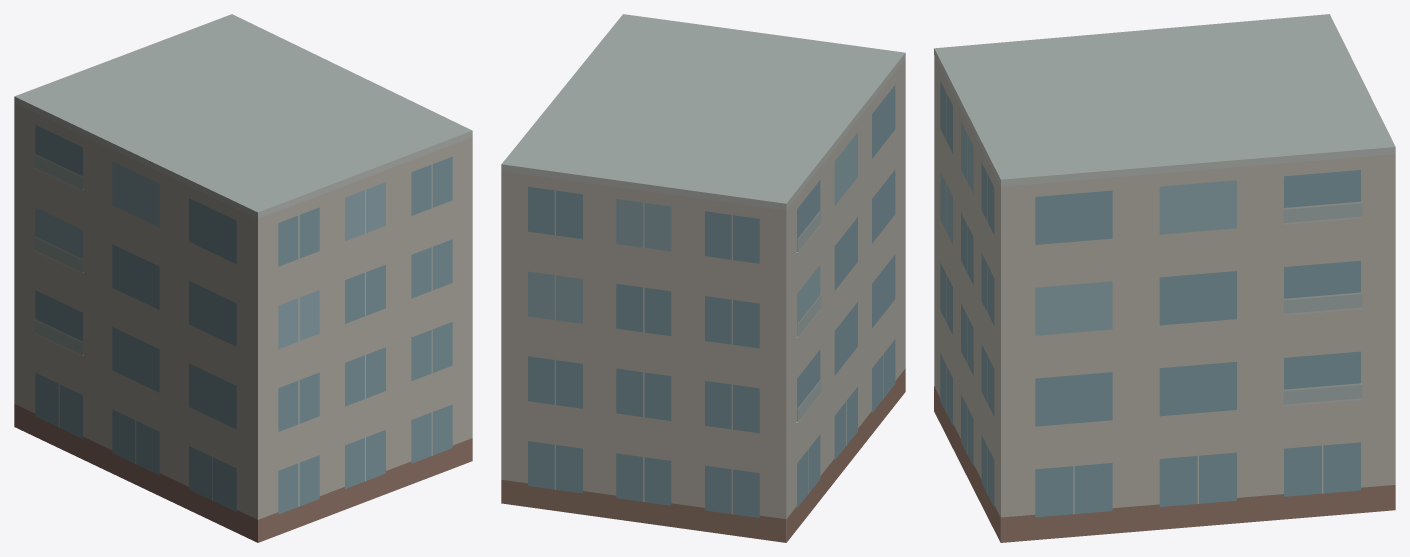
The model's file is survey-upis-32800724.glb.
3 renders of one model, left to right at view 1: azimuth 30°, elevation 25°; view 2: azimuth 150°, elevation 25°; view 3: azimuth 270°, elevation 25°, orthographic. The views are drawn at different scales.
Parts seen in each view (by area): view 1: survey-upis-32800724.tmp; view 2: survey-upis-32800724.tmp; view 3: survey-upis-32800724.tmp.
Part boxes in pixels (x1,y1,x2,y2): survey-upis-32800724.tmp: [14, 14, 472, 542]; survey-upis-32800724.tmp: [501, 14, 905, 542]; survey-upis-32800724.tmp: [934, 14, 1395, 542].
Size of the model in its own units: 12.28 by 12.55 by 14.46.
